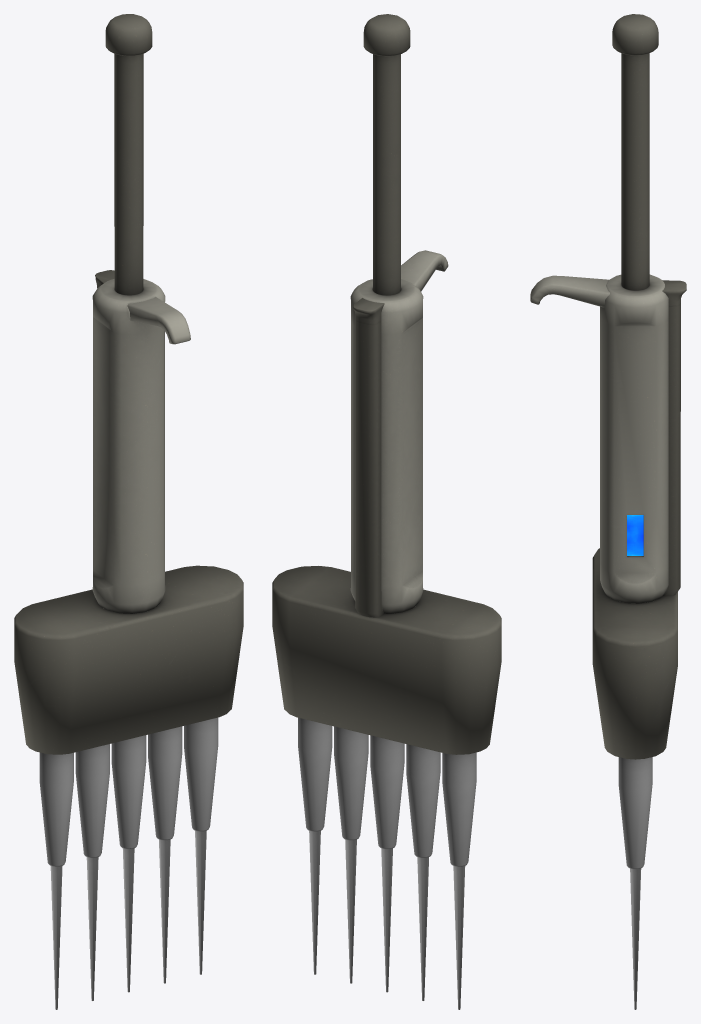
File: Pipette_Multy.fbx
3 renders of one model, left to right at view 1: azimuth 30°, elevation 25°; view 2: azimuth 150°, elevation 25°; view 3: azimuth 270°, elevation 25°, orthographic.
Parts seen in each view (by area): view 1: Pipette_Multy, PM_Plunger; view 2: Pipette_Multy, PM_Plunger; view 3: Pipette_Multy, PM_Plunger.
Boxes of the visible parts, <box> form: Pipette_Multy: <box>14,270,243,1009</box>; PM_Plunger: <box>105,14,152,295</box>; Pipette_Multy: <box>272,250,501,1009</box>; PM_Plunger: <box>363,14,410,295</box>; Pipette_Multy: <box>530,274,686,1009</box>; PM_Plunger: <box>612,14,658,290</box>.
Bounding box in the file's own units: 9.56 × 40.31 × 5.99.
Materials: 1 (1 with a texture image).
